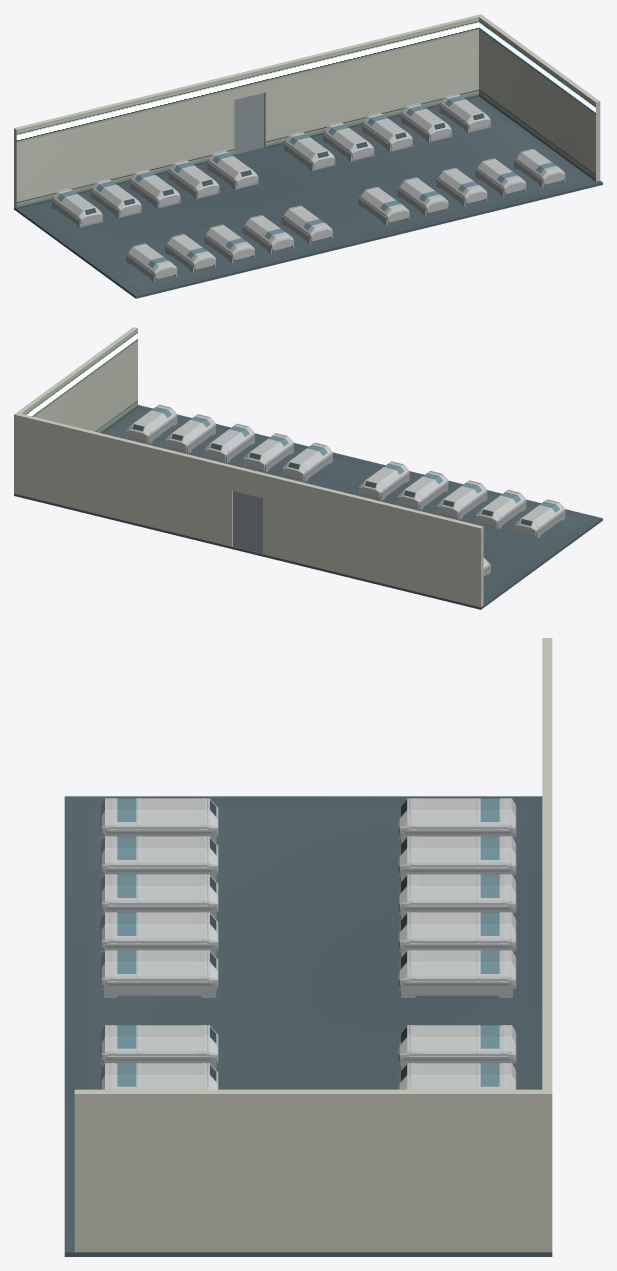
The model's file is room1_layout_review_r1.glb.
3 renders of one model, top to bottom at view 1: azimuth 30°, elevation 25°; view 2: azimuth 150°, elevation 25°; view 3: azimuth 270°, elevation 25°, orthographic. The views are drawn at different scales.
Visible parts, largest first — view 1: Floor_continuous_no_tile_seams, Wall_rear_left, Wall_rear_right, Wall_right, MAIN_DOOR_PLACEHOLDER_NOT_APPROVED, Wall_rear_door_header, P16_ONE_PIECE_COVER_head_window, P18_ONE_PIECE_COVER_head_window, P08_ONE_PIECE_COVER_head_window, P10_ONE_PIECE_COVER_head_window, P19_ONE_PIECE_COVER_head_window, P20_ONE_PIECE_COVER_head_window (+34 smaller); view 2: Wall_rear_left, Wall_rear_right, Floor_continuous_no_tile_seams, Wall_right, MAIN_DOOR_PLACEHOLDER_NOT_APPROVED, Wall_rear_door_header, P08_ONE_PIECE_COVER_head_window, P10_ONE_PIECE_COVER_head_window, P01_ONE_PIECE_COVER_head_window, P04_ONE_PIECE_COVER_head_window, P05_ONE_PIECE_COVER_head_window, P02_ONE_PIECE_COVER_head_window (+14 smaller); view 3: Floor_continuous_no_tile_seams, Wall_right, Wall_rear_right, P01_ONE_PIECE_COVER_head_window, P02_ONE_PIECE_COVER_head_window, P03_ONE_PIECE_COVER_head_window, P04_ONE_PIECE_COVER_head_window, P05_ONE_PIECE_COVER_head_window, P11_ONE_PIECE_COVER_head_window, P12_ONE_PIECE_COVER_head_window, P13_ONE_PIECE_COVER_head_window, P14_ONE_PIECE_COVER_head_window (+18 smaller).
Boxes of the visible parts, x1,y1,x2,y2 form: Floor_continuous_no_tile_seams: (14, 96, 602, 298); Wall_rear_left: (14, 75, 234, 208); Wall_rear_right: (263, 14, 482, 148); Wall_right: (479, 16, 600, 181); MAIN_DOOR_PLACEHOLDER_NOT_APPROVED: (234, 93, 263, 154); Wall_rear_door_header: (232, 67, 265, 99); P16_ONE_PIECE_COVER_head_window: (285, 132, 331, 161); P18_ONE_PIECE_COVER_head_window: (363, 113, 408, 141); P08_ONE_PIECE_COVER_head_window: (438, 168, 480, 197); P10_ONE_PIECE_COVER_head_window: (516, 149, 558, 178); P19_ONE_PIECE_COVER_head_window: (402, 103, 444, 132); P20_ONE_PIECE_COVER_head_window: (441, 94, 487, 123); Wall_rear_left: (263, 473, 483, 607); Wall_rear_right: (14, 412, 233, 546); Floor_continuous_no_tile_seams: (14, 405, 602, 609); Wall_right: (17, 327, 137, 433); MAIN_DOOR_PLACEHOLDER_NOT_APPROVED: (233, 491, 262, 553); Wall_rear_door_header: (232, 466, 265, 498); P08_ONE_PIECE_COVER_head_window: (207, 424, 253, 453); P10_ONE_PIECE_COVER_head_window: (129, 405, 175, 434); P01_ONE_PIECE_COVER_head_window: (518, 500, 563, 528); P04_ONE_PIECE_COVER_head_window: (401, 471, 446, 500); P05_ONE_PIECE_COVER_head_window: (366, 462, 408, 490); P02_ONE_PIECE_COVER_head_window: (480, 490, 524, 519); Floor_continuous_no_tile_seams: (64, 796, 552, 1256); Wall_right: (74, 1089, 542, 1252); Wall_rear_right: (542, 881, 552, 1252); P01_ONE_PIECE_COVER_head_window: (108, 798, 206, 829); P02_ONE_PIECE_COVER_head_window: (108, 836, 206, 867); P03_ONE_PIECE_COVER_head_window: (108, 874, 206, 905); P04_ONE_PIECE_COVER_head_window: (108, 912, 206, 943); P05_ONE_PIECE_COVER_head_window: (108, 950, 206, 981); P11_ONE_PIECE_COVER_head_window: (410, 798, 508, 829); P12_ONE_PIECE_COVER_head_window: (410, 836, 508, 867); P13_ONE_PIECE_COVER_head_window: (410, 874, 508, 905); P14_ONE_PIECE_COVER_head_window: (410, 912, 508, 943).
Size of the model in its own units: 21 by 3.5 by 9.5.
12 materials, 5 textured.
